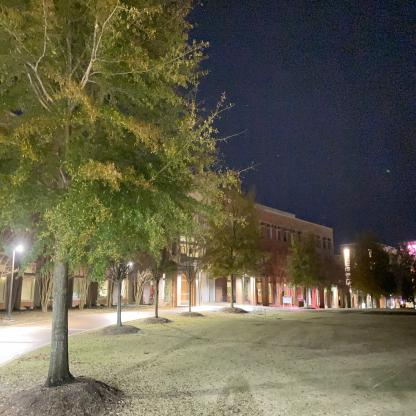eb2: (6, 127, 340, 308)
